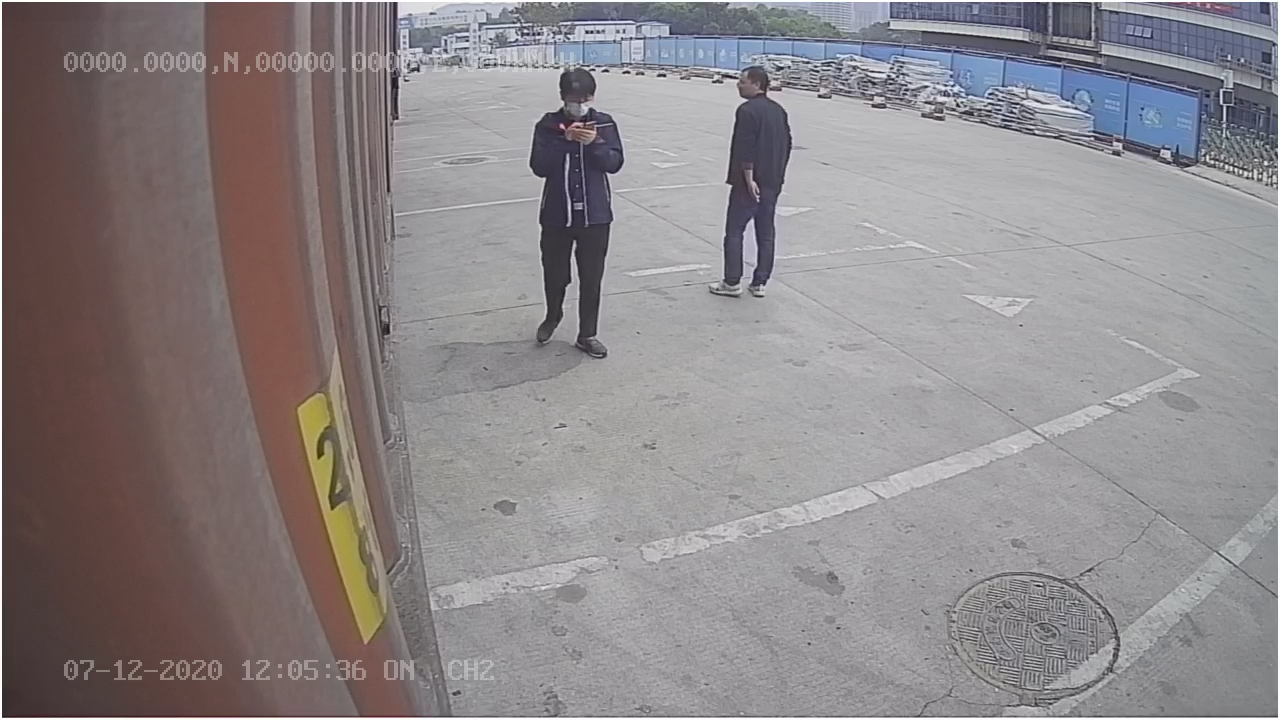person: (527, 67, 626, 361), (708, 62, 792, 300)
